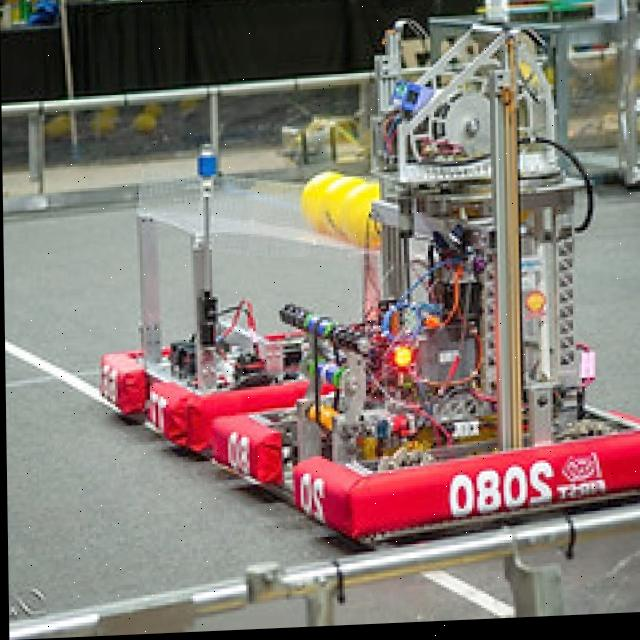robot: (203, 18, 640, 551), (93, 201, 382, 459)
